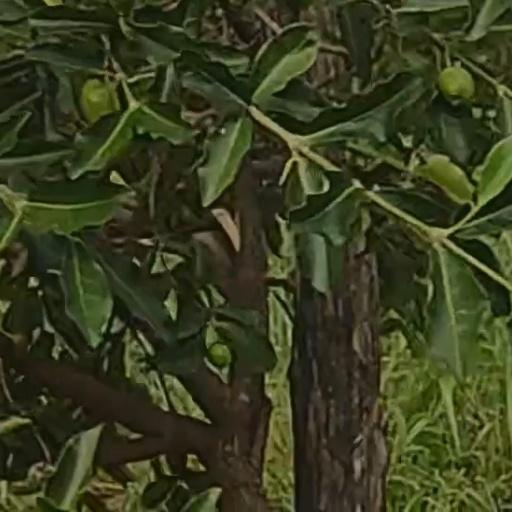acerola: (441, 67, 474, 104), (81, 78, 111, 117), (210, 342, 232, 369)
